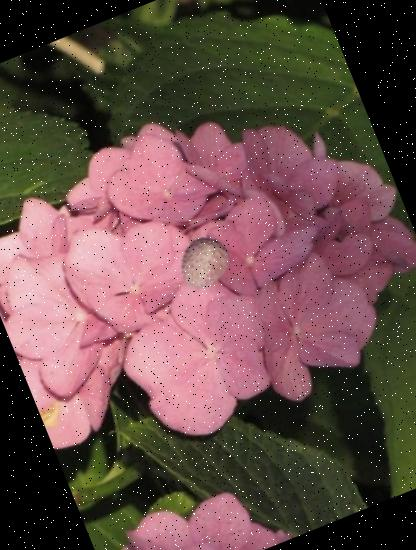Lychee: (168, 228, 238, 298)
